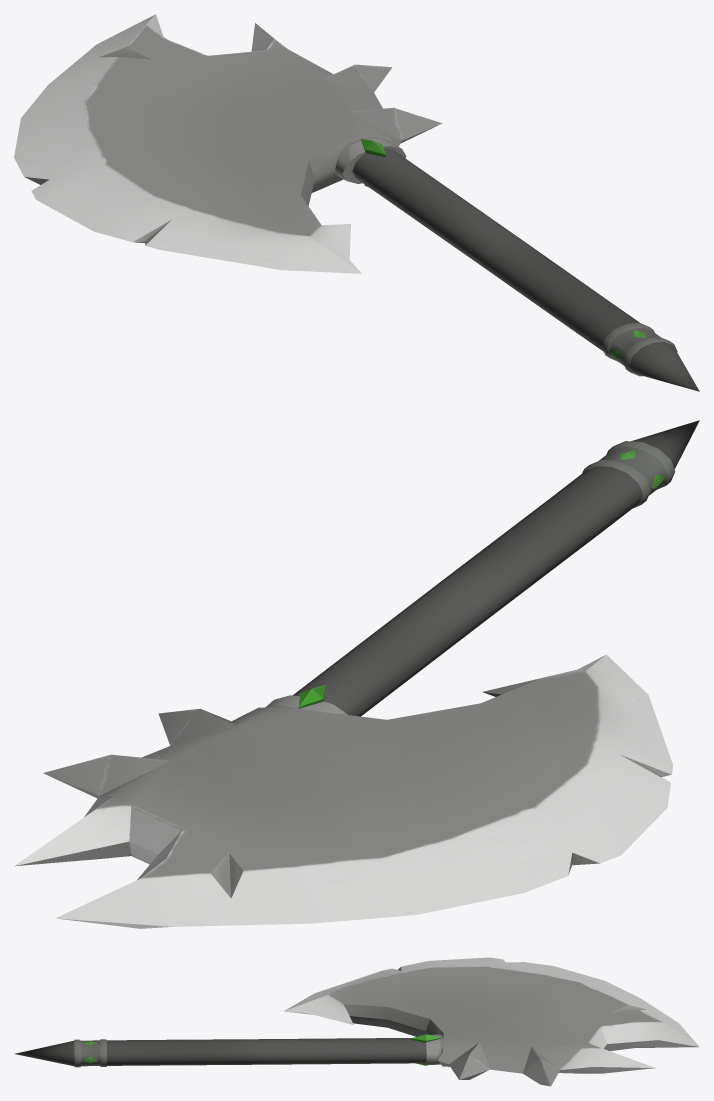
Rendered from Goblin_Weapon.fbx.
The picture shows the model from 3 angles, top to bottom: view 1: azimuth 30°, elevation 25°; view 2: azimuth 150°, elevation 25°; view 3: azimuth 270°, elevation 25°; orthographic projection. The views are drawn at different scales.
Parts seen in each view (by area): view 1: blade1, handle; view 2: blade1, handle; view 3: blade1, handle.
Part boxes in pixels (left/top/right/bottom): blade1: left=14, top=14, right=442, bottom=273; handle: left=352, top=148, right=699, bottom=391; blade1: left=14, top=654, right=673, bottom=928; handle: left=292, top=420, right=699, bottom=716; blade1: left=283, top=957, right=699, bottom=1086; handle: left=14, top=1038, right=426, bottom=1067.
Bounding box in the file's own units: 25.38 × 2.9 × 57.02.
